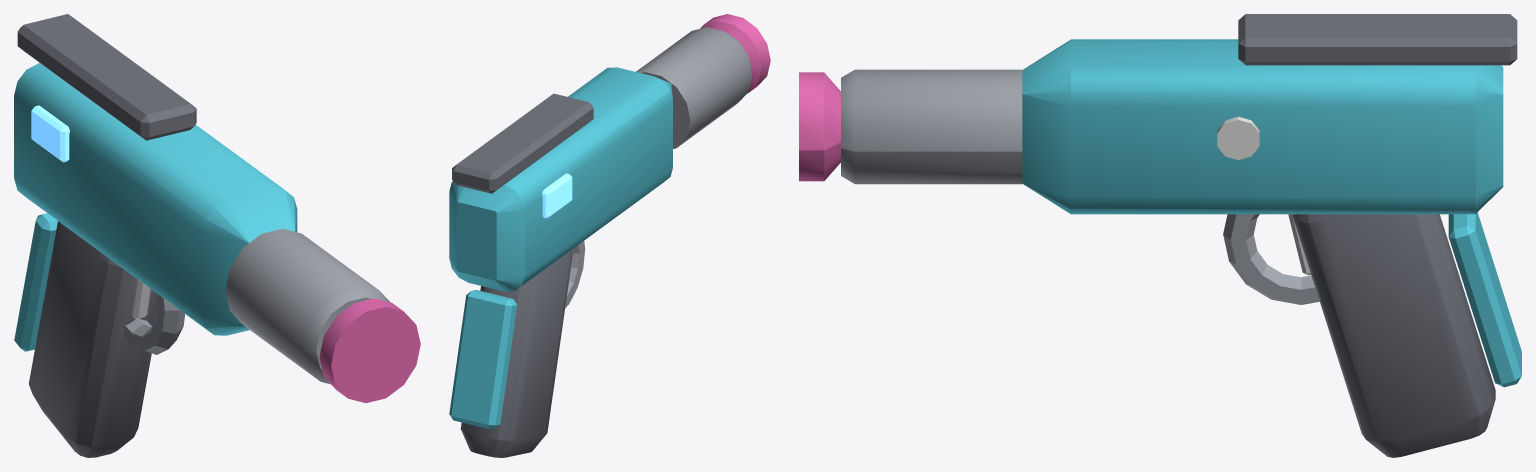
Rendered from laser-tag-arena-and-activity-centre-laser-tag-phaser-b-0695d082__34490.glb.
3 views of the same model, side by side, from view 1: azimuth 30°, elevation 25°; view 2: azimuth 150°, elevation 25°; view 3: azimuth 270°, elevation 25° (orthographic). The views are drawn at different scales.
Parts seen in each view (by area): view 1: laser-tag-phaser-blue; view 2: laser-tag-phaser-blue; view 3: laser-tag-phaser-blue.
Part boxes in pixels (x1,y1,x2,y2): laser-tag-phaser-blue: [14, 14, 420, 457]; laser-tag-phaser-blue: [449, 14, 770, 457]; laser-tag-phaser-blue: [799, 14, 1521, 457].
Size of the model in its own units: 0.097 by 0.3355 by 0.5182.
